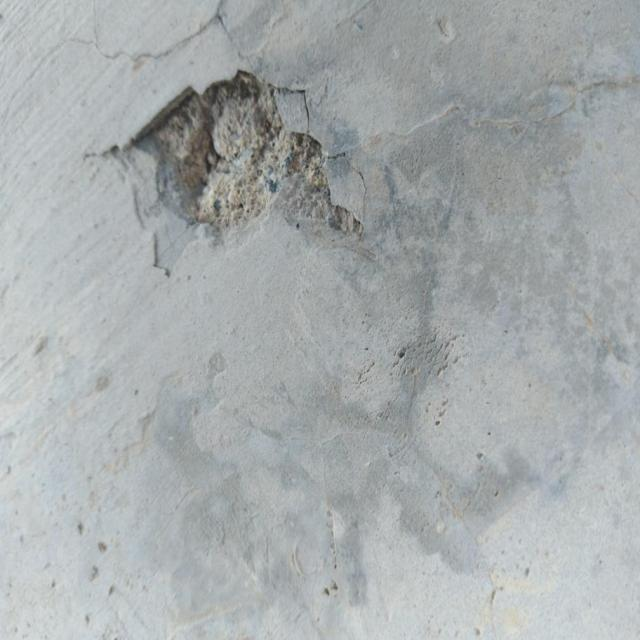concrete spalling: (126, 68, 364, 243)
diagonal crack: (325, 152, 365, 221), (274, 84, 314, 133)
horizontal crack: (0, 0, 257, 70)
vertical crack: (404, 373, 502, 639)
